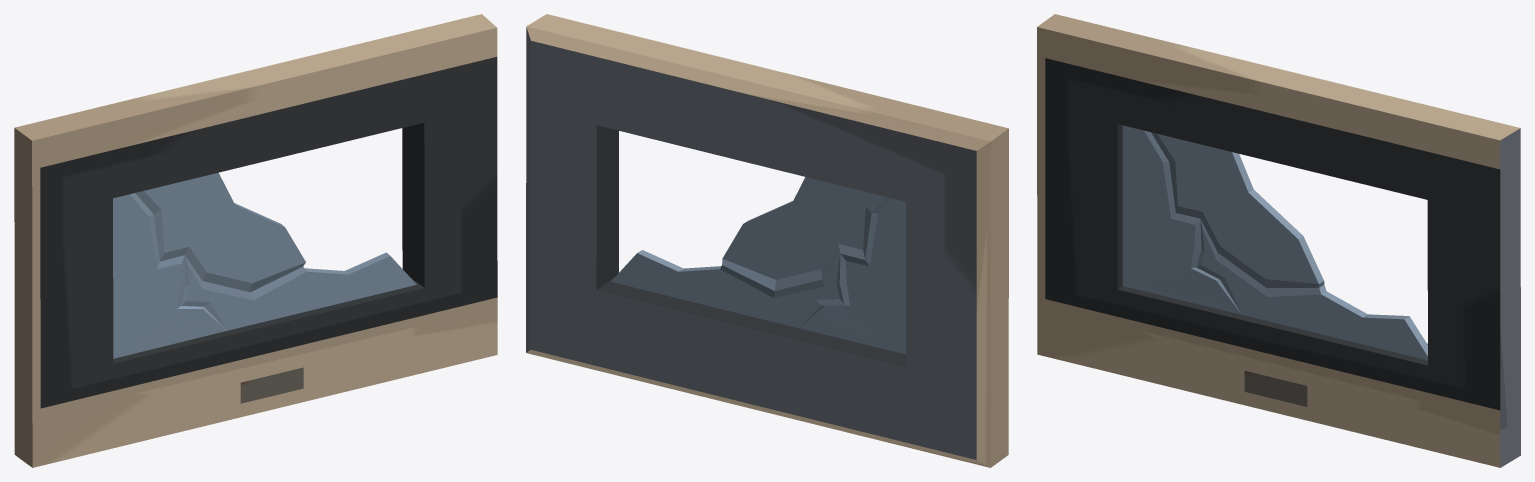
Rendered from SM_Prop_Microwave_01_Door.obj.
The picture shows the model from 3 angles, left to right: view 1: azimuth 30°, elevation 25°; view 2: azimuth 150°, elevation 25°; view 3: azimuth 330°, elevation 25°; orthographic projection.
Parts seen in each view (by area): view 1: SM_Prop_Microwave_01_Door_0; view 2: SM_Prop_Microwave_01_Door_0; view 3: SM_Prop_Microwave_01_Door_0.
Part boxes in pixels (left/top/right/bottom): SM_Prop_Microwave_01_Door_0: left=14, top=14, right=497, bottom=467; SM_Prop_Microwave_01_Door_0: left=526, top=14, right=1008, bottom=467; SM_Prop_Microwave_01_Door_0: left=1037, top=14, right=1520, bottom=467.
Bounding box in the file's own units: 0.4258 × 0.2856 × 0.0369.
Materials: 1 (1 with a texture image).
